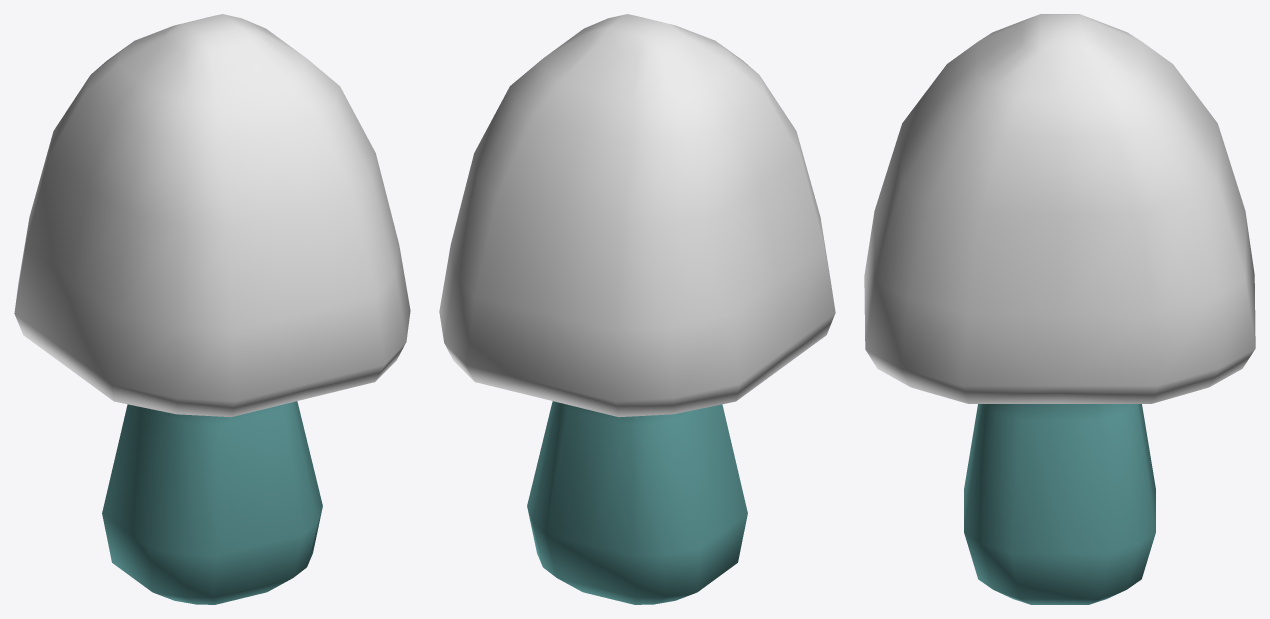
File: Set1.Mushroom001.dae
3 views of the same model, side by side, from view 1: azimuth 30°, elevation 25°; view 2: azimuth 150°, elevation 25°; view 3: azimuth 270°, elevation 25° (orthographic).
Visible parts, largest first — view 1: Cube; view 2: Cube; view 3: Cube.
Boxes of the visible parts, <box> form: Cube: <box>14,14,410,604</box>; Cube: <box>439,14,835,604</box>; Cube: <box>864,14,1255,604</box>.
Bounding box in the file's own units: 3.25 × 3.64 × 5.81.
